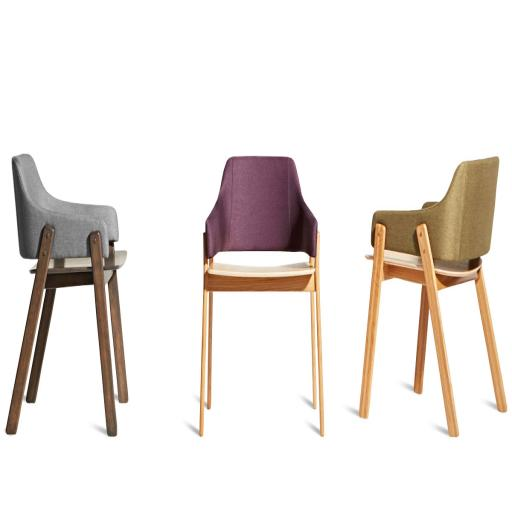chair: (358, 156, 508, 437), (199, 156, 325, 437), (5, 154, 128, 437)
